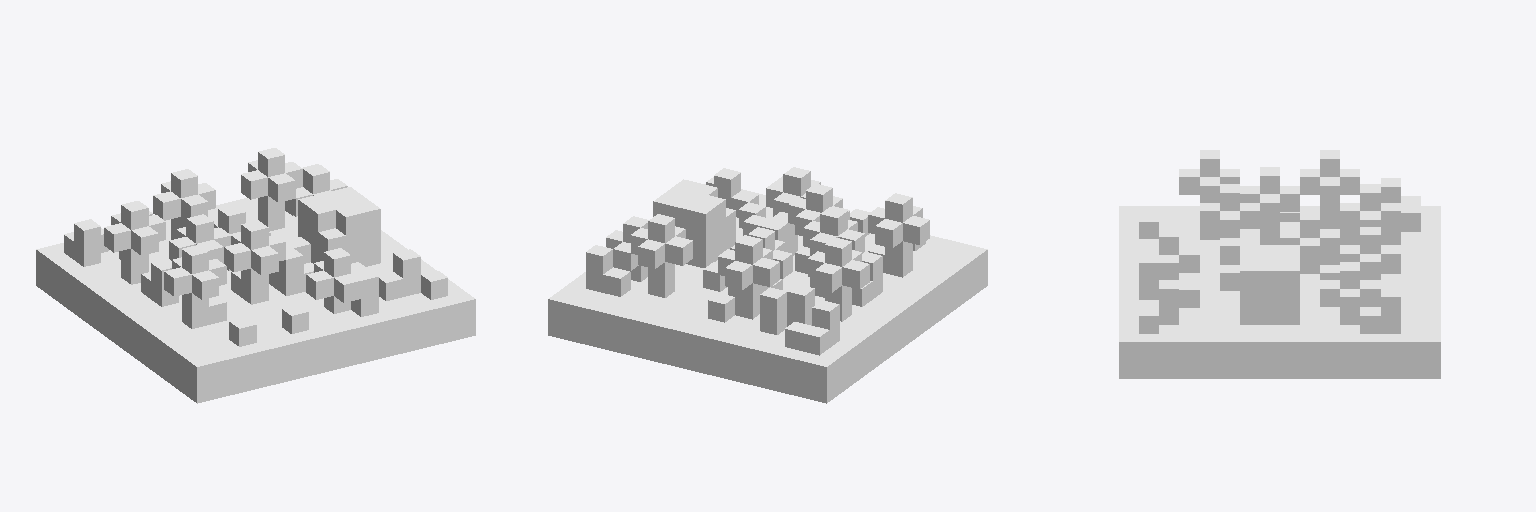
Rendered from Forest_1.obj.
3 views of the same model, side by side, from view 1: azimuth 30°, elevation 25°; view 2: azimuth 150°, elevation 25°; view 3: azimuth 270°, elevation 25° (orthographic).
Parts seen in each view (by area): view 1: object 1; view 2: object 1; view 3: object 1.
Boxes of the visible parts, x1,y1,x2,y2 form: object 1: [36, 148, 475, 403]; object 1: [548, 167, 987, 403]; object 1: [1119, 150, 1440, 378].
Bounding box in the file's own units: 1.6 × 0.6 × 1.6.